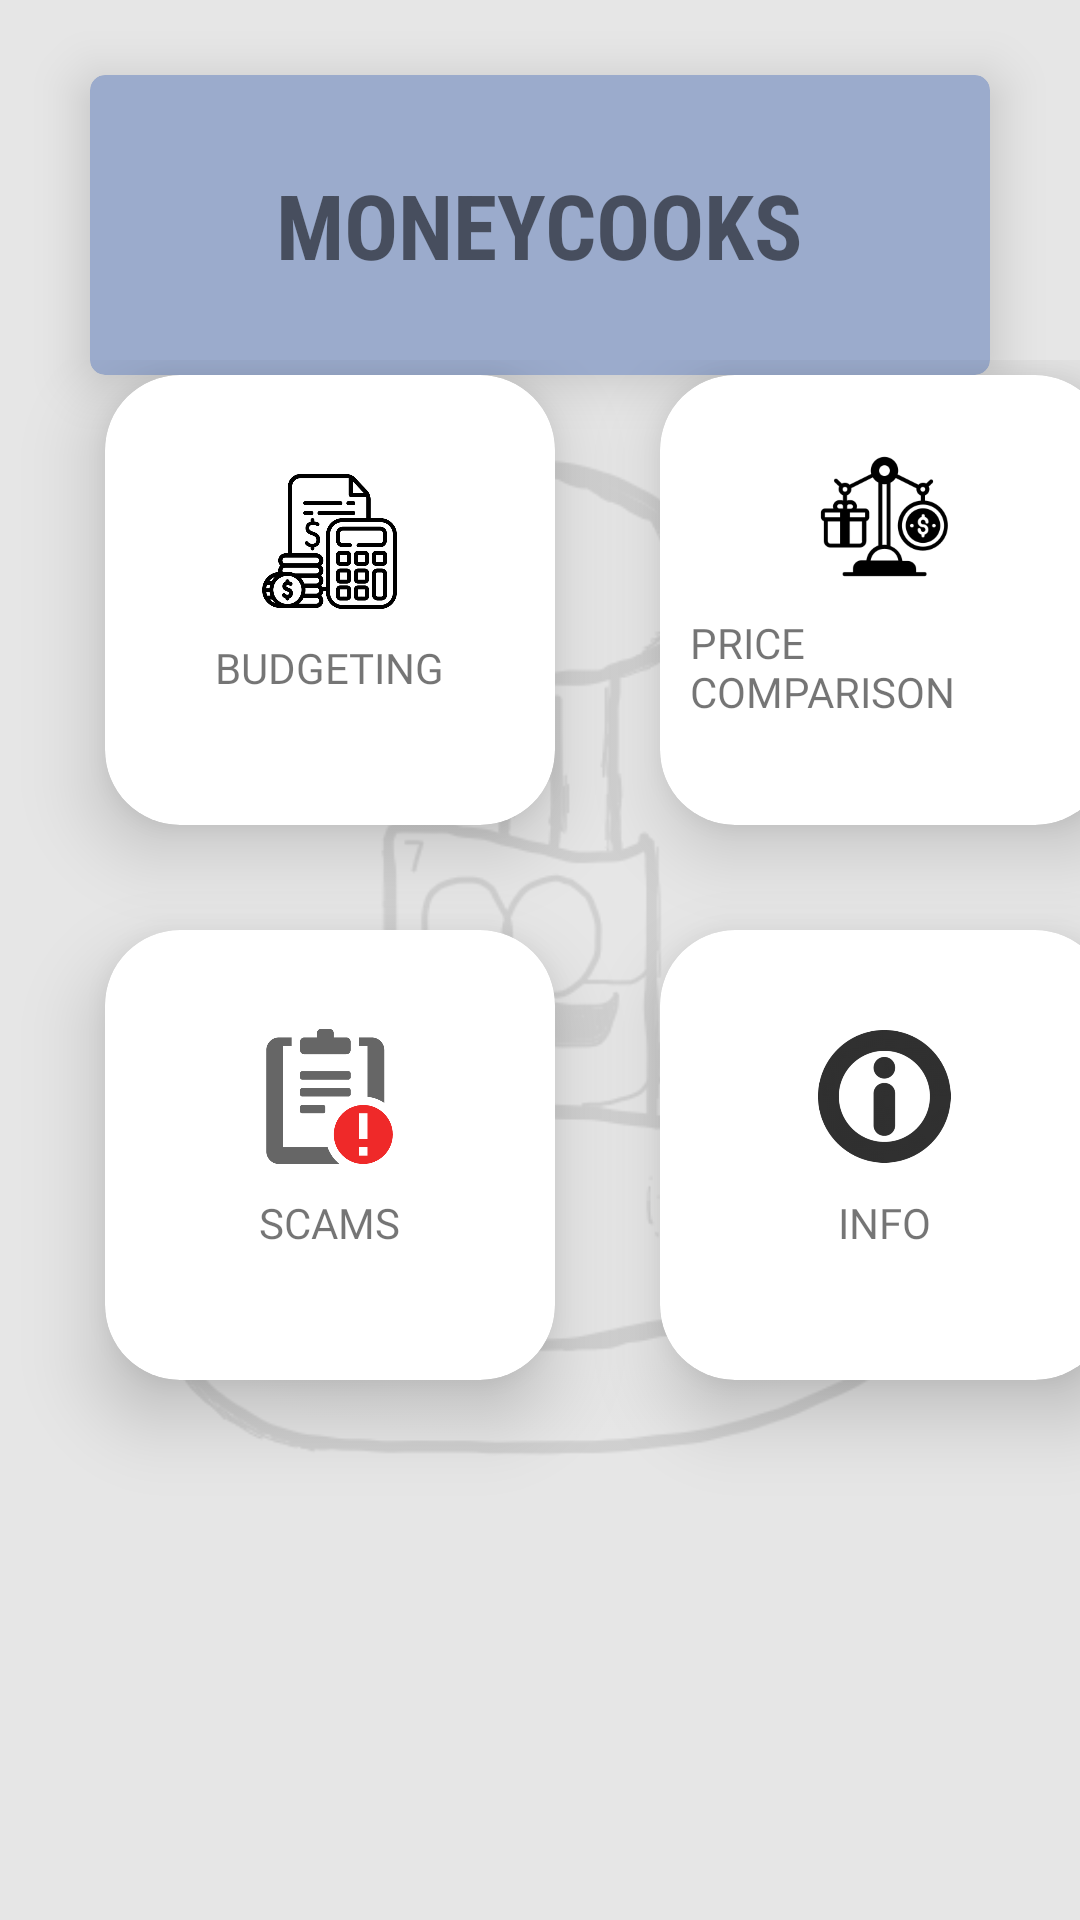

Icon click points for this 1080*1920 phone screenshot, format [x,y]:
price comaprison: [884,516]
